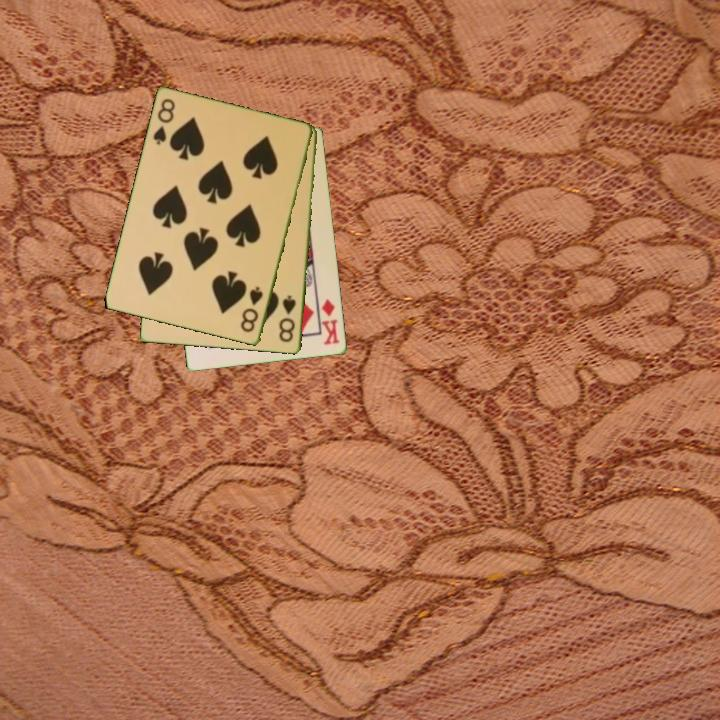8s: (237, 283, 266, 336), (150, 95, 178, 148), (276, 292, 299, 345)
Kd: (318, 296, 343, 348)
